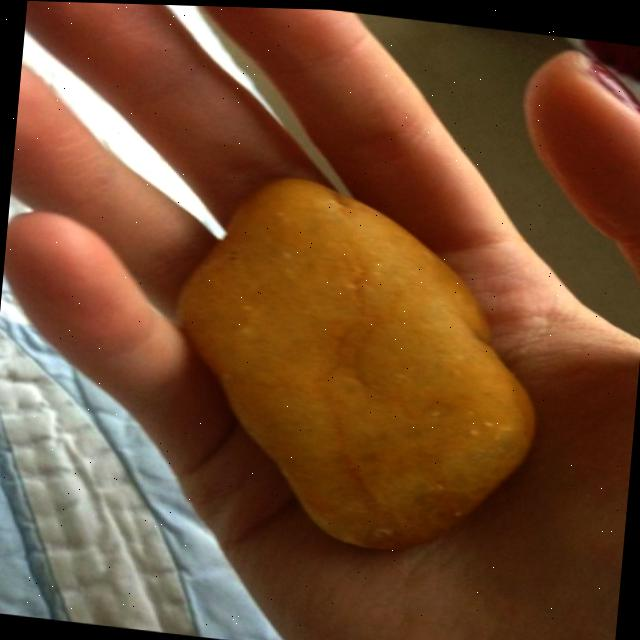鸡肉料理 含炸鸡: (155, 136, 574, 571)
